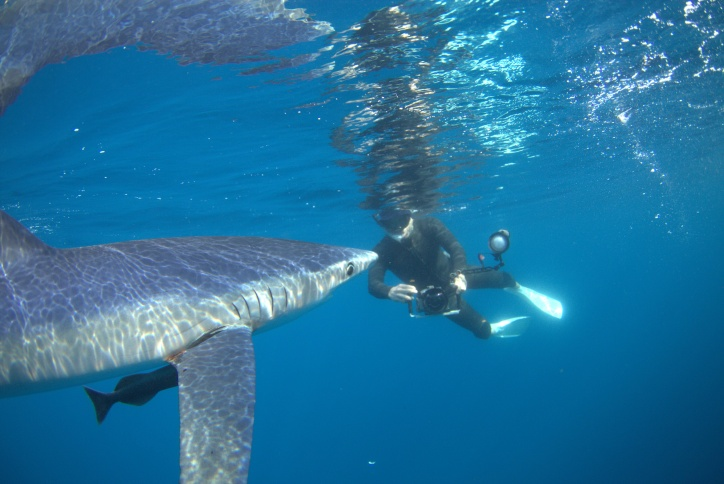Azul: (1, 190, 376, 480)
